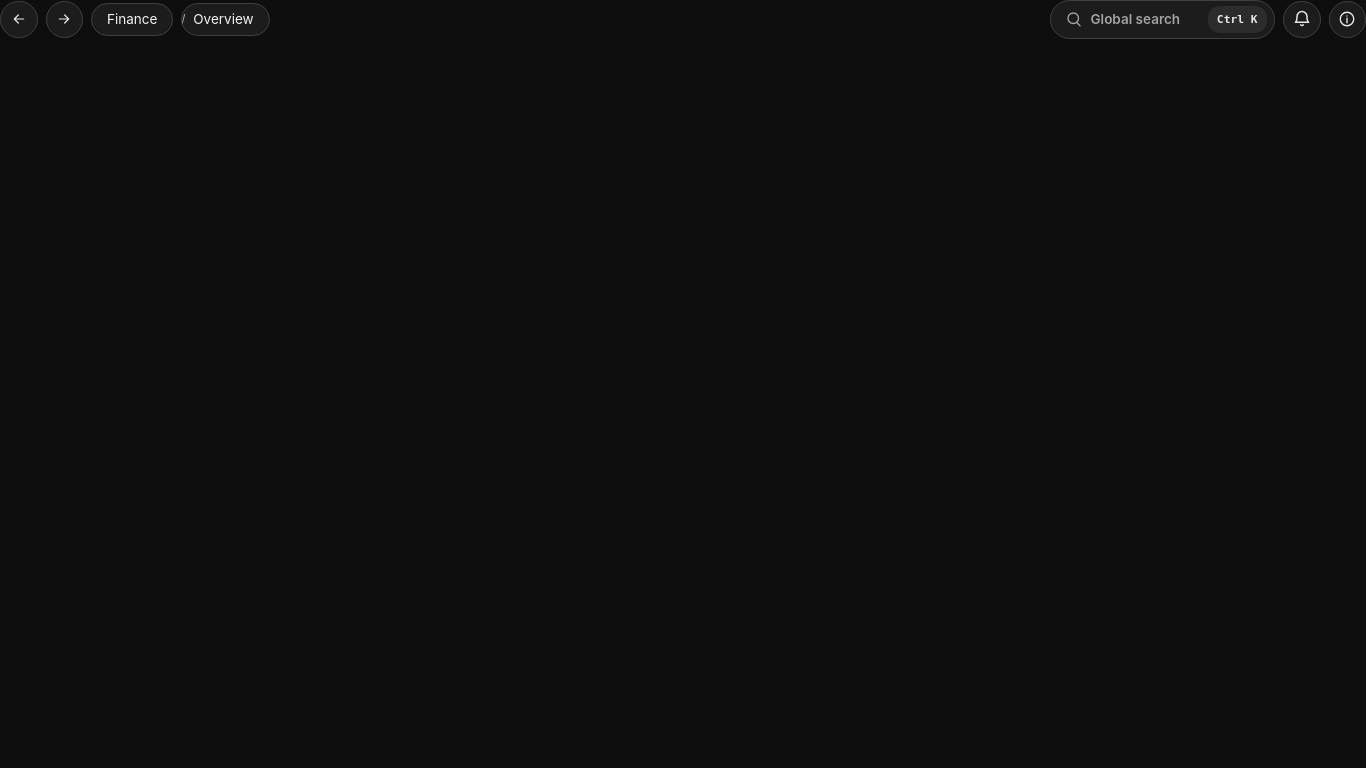
notifications in the top bar › explains, instead of inventing a count, when the role may not read notifications
Click the button named "Notifications": (1302, 19) [1283, 1, 1320, 38]
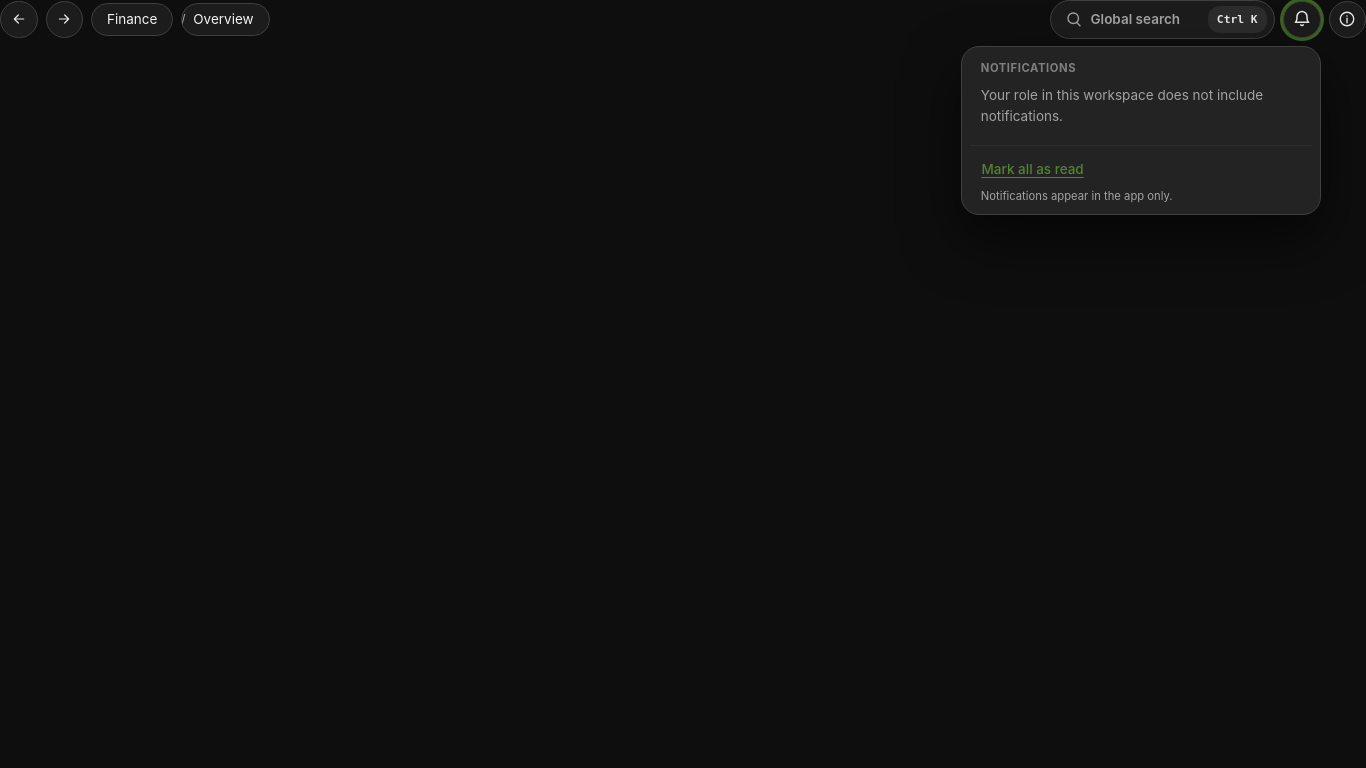
Now the text "Your role in this workspace does not include notifications." is shown, box [981, 87, 1263, 124]
